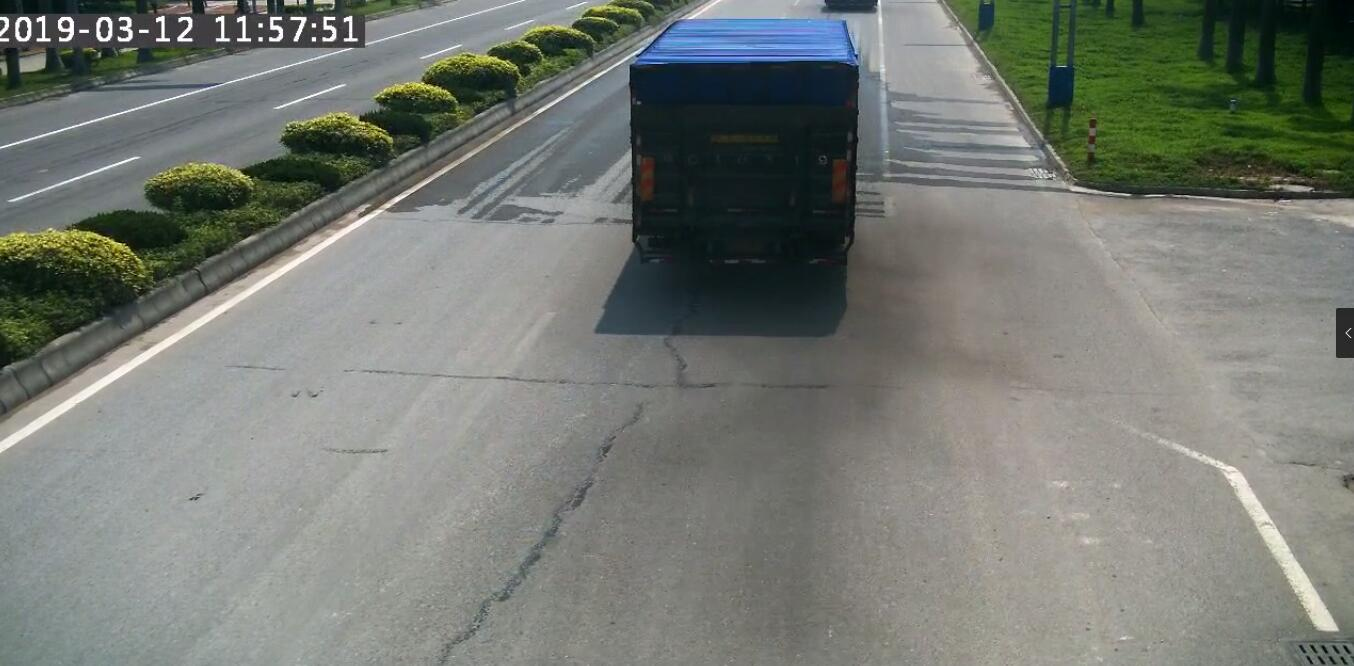yanwu: (821, 213, 959, 361)
